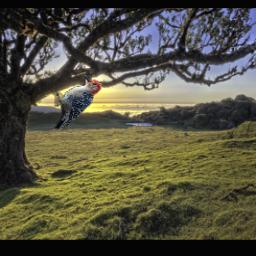Woodpecker: (54, 74, 102, 128)
